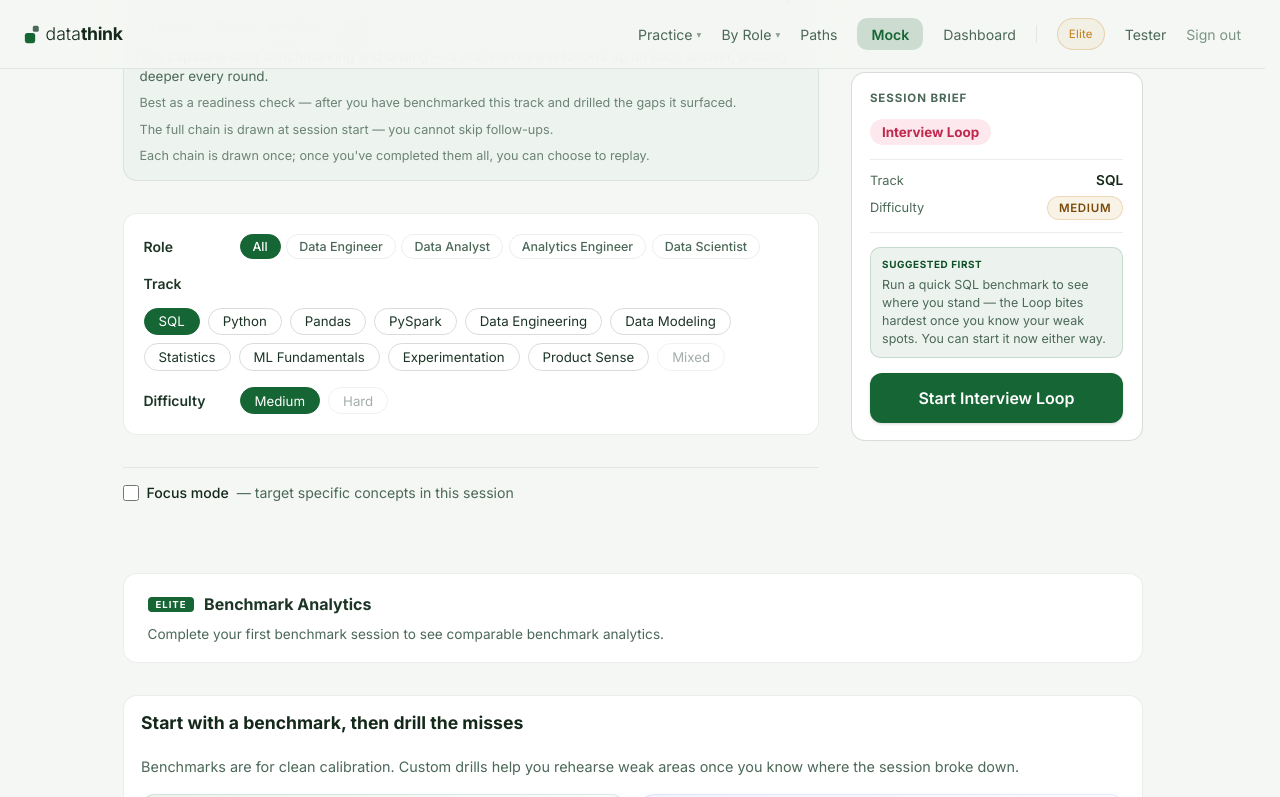
MockHub Interview Loop difficulty gating › clicking a pool_exhausted hard difficulty stays selected and shows its block message (no bounce back to medium)
(page scrolled)
Expected: the button "Start Interview Loop" is shown, top-left (870, 372), bottom-right (1123, 422)
Note: Click the Hard pill (blocked due to pool_exhausted).
Step 1. Click the button "Hard" → (358, 401), box top-left (328, 387), bottom-right (388, 414)
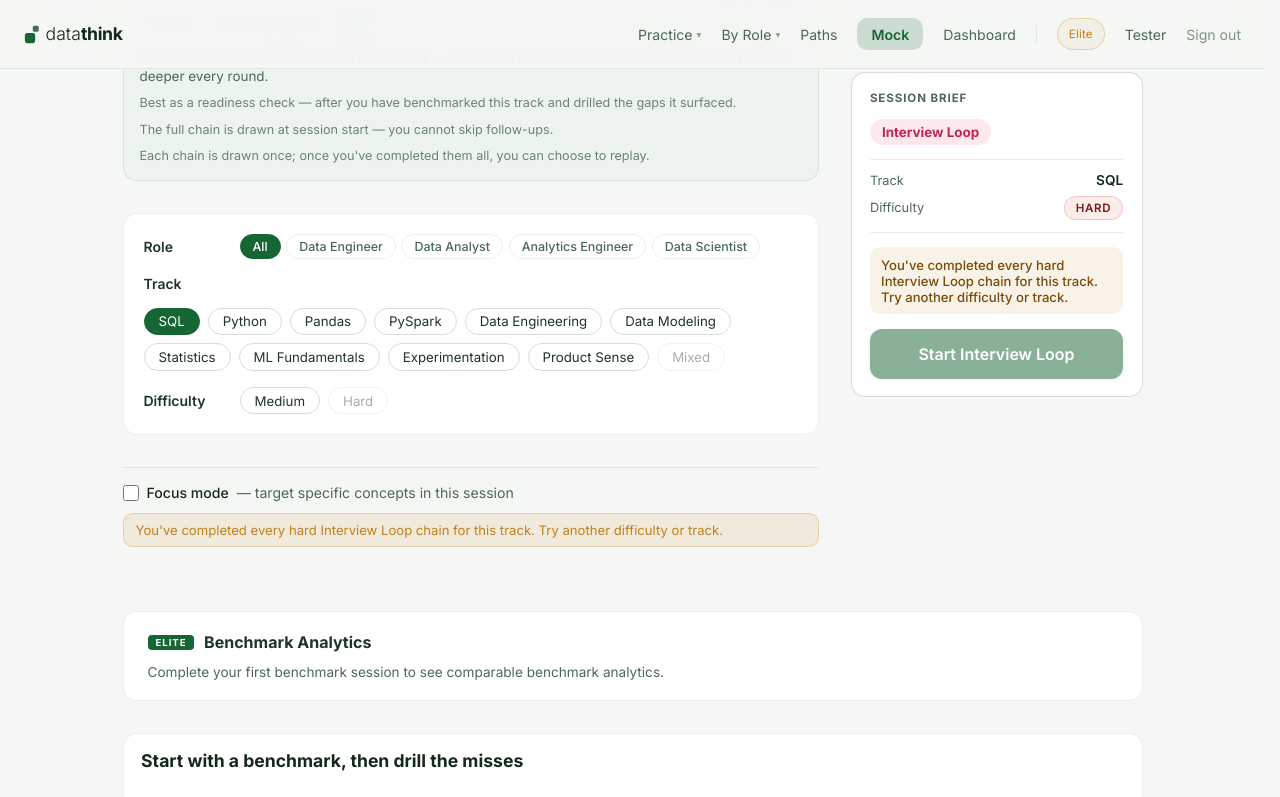
Now the text "You've completed every hard Interview Loop chain for this track. Try another difficulty or track." below "Focus mode" is shown, box top-left (136, 522), bottom-right (723, 538)
